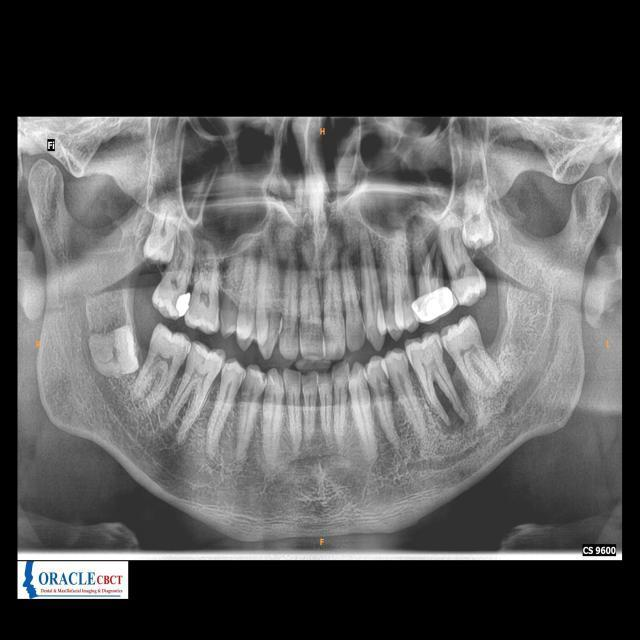dolgu: (170, 286, 192, 317)
kanal-tedavisi: (423, 253, 431, 289)
kaplama: (412, 288, 454, 320)
kok-enfeksiyonu: (436, 385, 478, 437)
